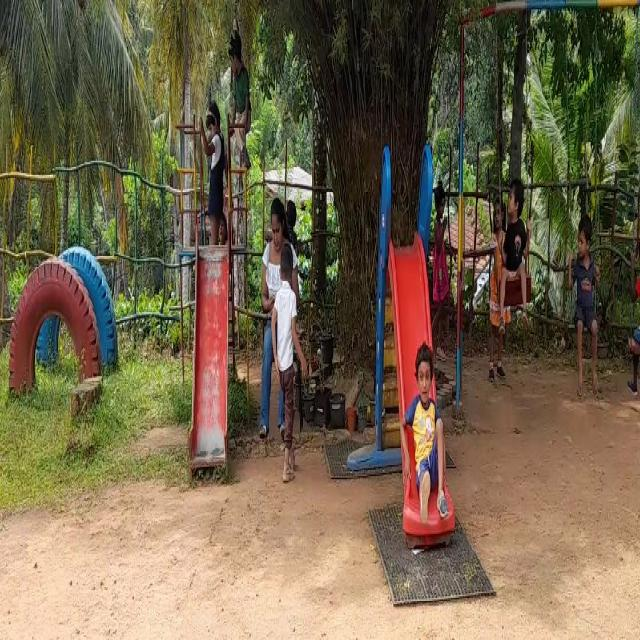adult: (260, 201, 279, 412)
child: (405, 332, 454, 522), (569, 205, 603, 410), (278, 253, 306, 485), (500, 172, 530, 342), (633, 218, 640, 399)
